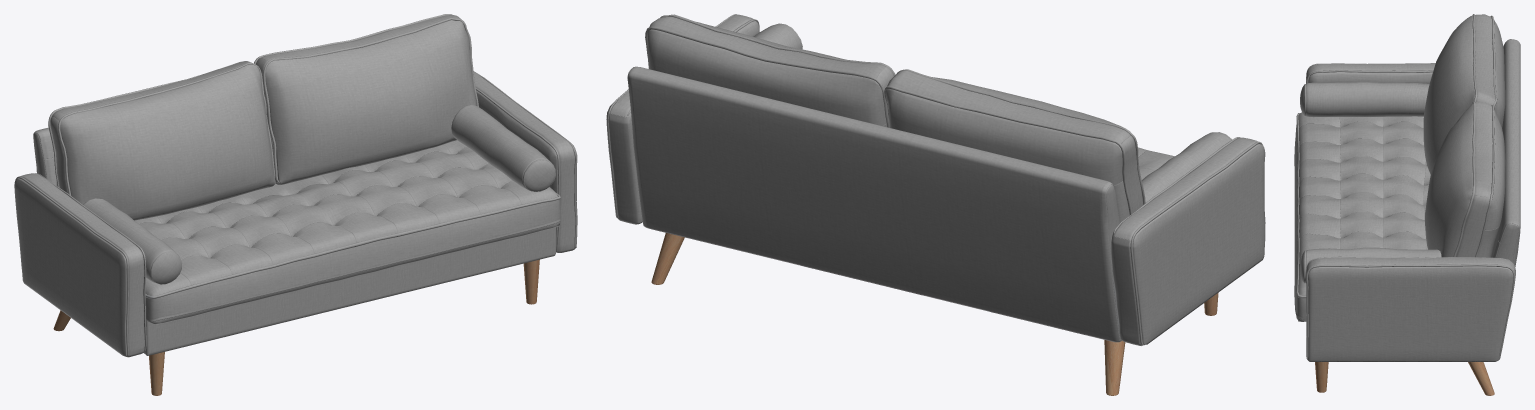
Rendered from urban-barn-sofa-3.glb.
The picture shows the model from 3 angles, left to right: view 1: azimuth 30°, elevation 25°; view 2: azimuth 150°, elevation 25°; view 3: azimuth 270°, elevation 25°; orthographic projection. The views are drawn at different scales.
Visible parts, largest first — view 1: TMPL2418_QNST3SLG_Seater_002, TMPL2418_QNST3SLG_Legs_001; view 2: TMPL2418_QNST3SLG_Seater_002, TMPL2418_QNST3SLG_Legs_001; view 3: TMPL2418_QNST3SLG_Seater_002, TMPL2418_QNST3SLG_Legs_001.
Part boxes in pixels (left/top/right/bottom): TMPL2418_QNST3SLG_Seater_002: left=14, top=14, right=577, bottom=357; TMPL2418_QNST3SLG_Legs_001: left=53, top=259, right=539, bottom=395; TMPL2418_QNST3SLG_Seater_002: left=606, top=14, right=1265, bottom=345; TMPL2418_QNST3SLG_Legs_001: left=651, top=233, right=1218, bottom=395; TMPL2418_QNST3SLG_Seater_002: left=1294, top=14, right=1520, bottom=361; TMPL2418_QNST3SLG_Legs_001: left=1315, top=362, right=1494, bottom=395.
Size of the model in its own units: 177 by 84.37 by 82.51.
Materials: 2 (2 with a texture image).
